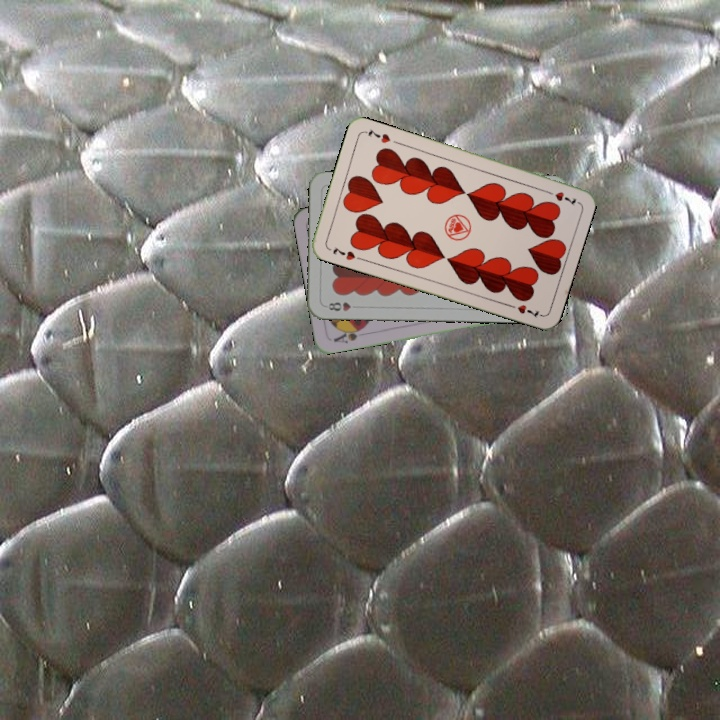H7: (541, 186, 579, 207), (329, 243, 358, 263)
H8: (324, 298, 362, 313)
SA: (330, 323, 367, 346)
